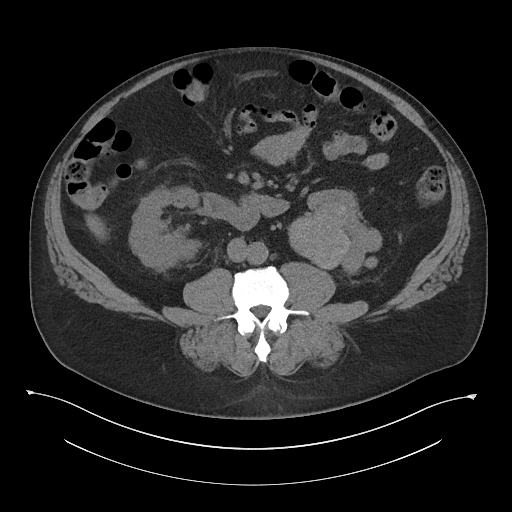Lesion: (286, 218, 352, 270)
